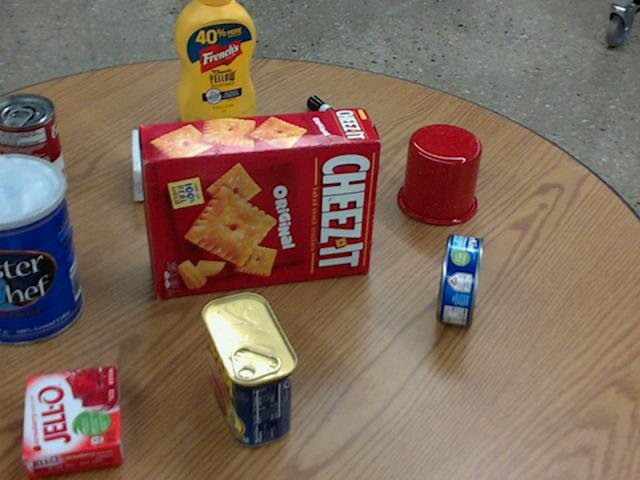cracker_box: (140, 108, 379, 296)
gelatin_box: (21, 365, 120, 479)
large_marker: (307, 95, 373, 147)
master_chef_can: (0, 155, 82, 345)
mug: (396, 124, 480, 225)
mustard_bottle: (174, 0, 255, 126)
potted_meat_can: (200, 292, 294, 446)
sugar_box: (130, 123, 290, 200)
tomato_soup_can: (0, 93, 66, 205)
tuna_fish_can: (437, 234, 483, 325)
